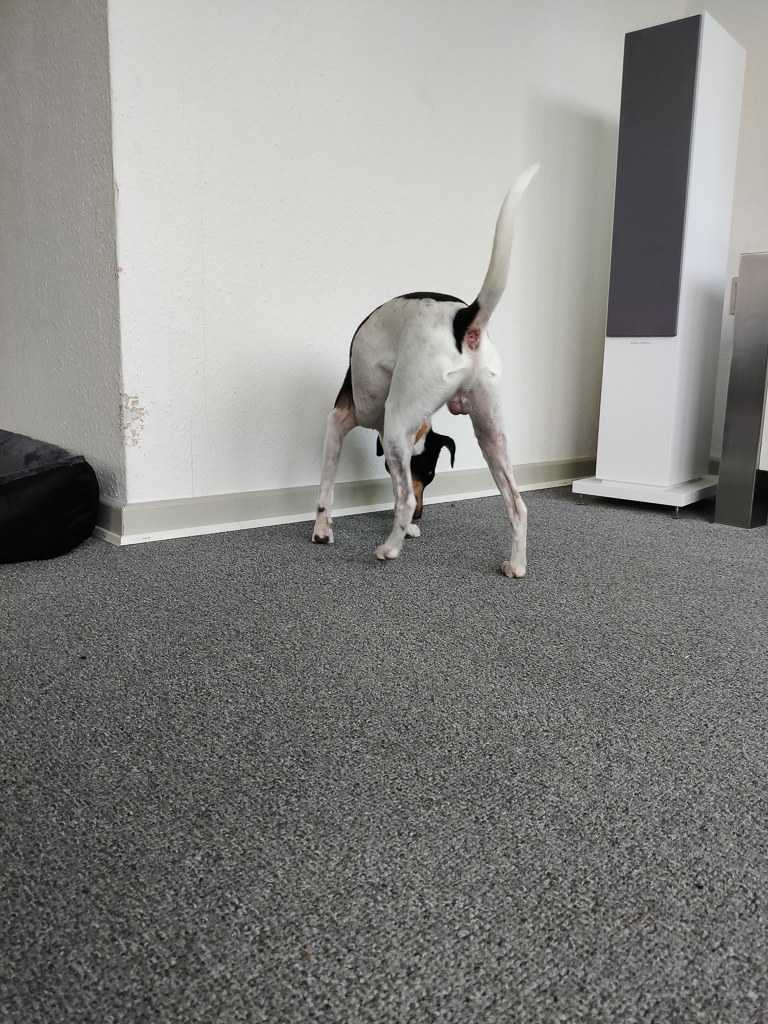Dog: (282, 137, 569, 613)
